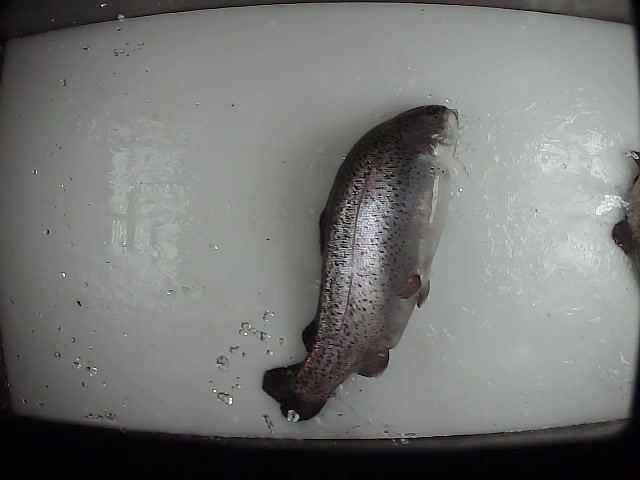fish: (260, 103, 461, 424)
